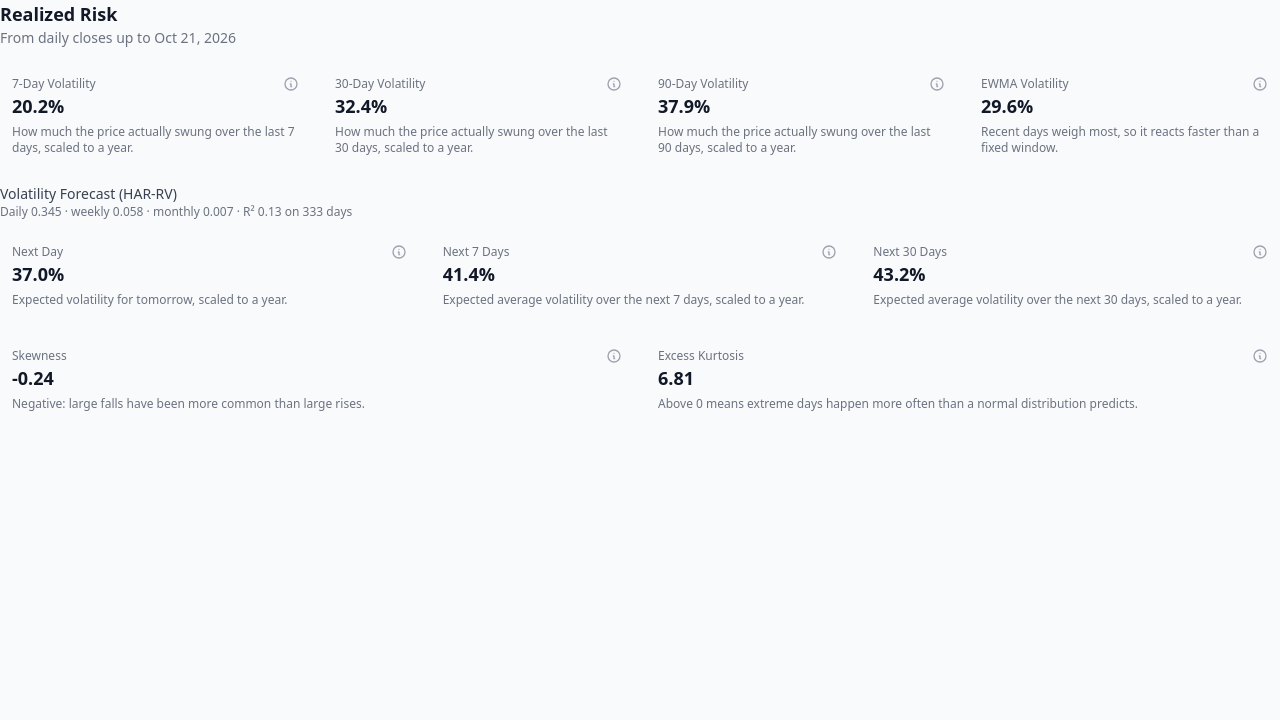
Test: RiskSummaryPanel › names the data behind each number in its details
Click the button named "About 30-Day Volatility". click: (614, 84)
box: [606, 76, 622, 92]
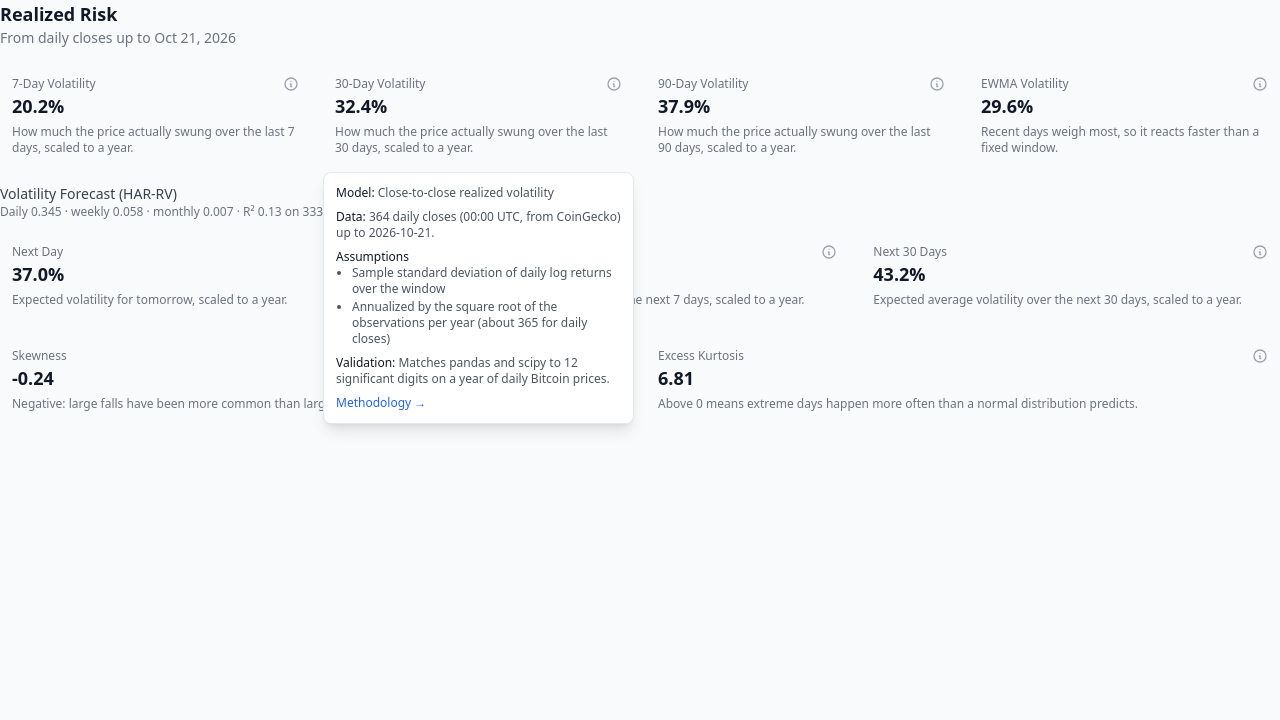
Now the dialog shows "364 daily closes (00:00 UTC, from CoinGecko) up to 2026-10-21.", box [336, 208, 620, 241]
